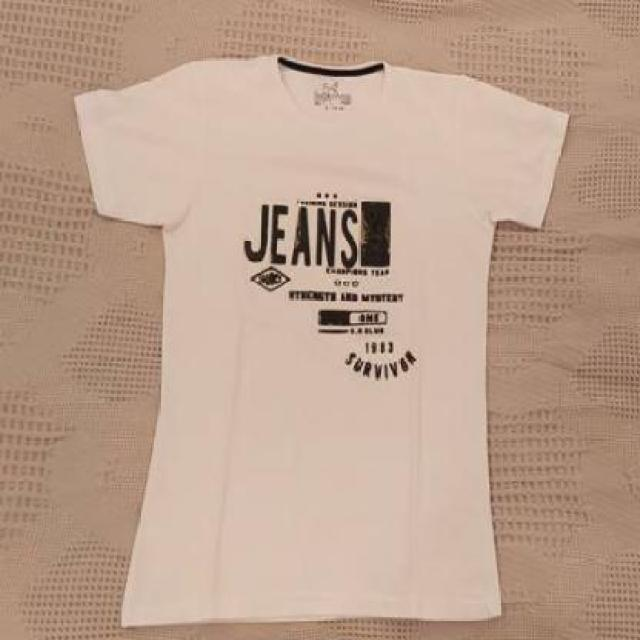shirt: (67, 47, 578, 616)
